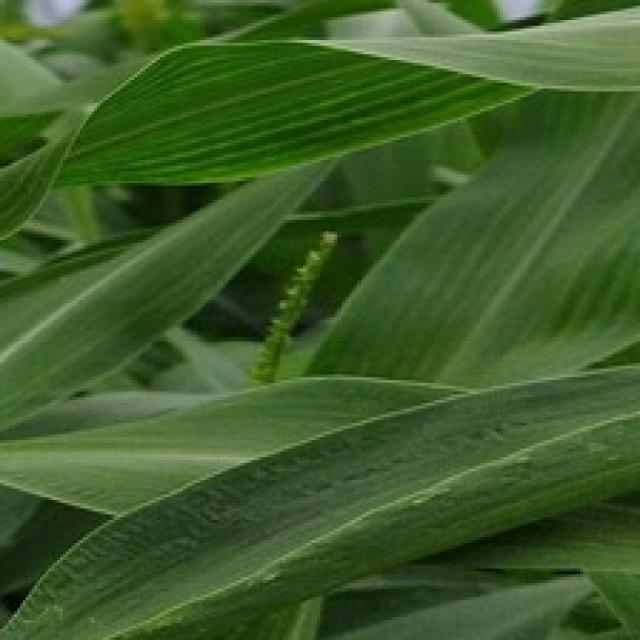Corn: (0, 0, 637, 637), (0, 352, 637, 637), (48, 0, 637, 191)
